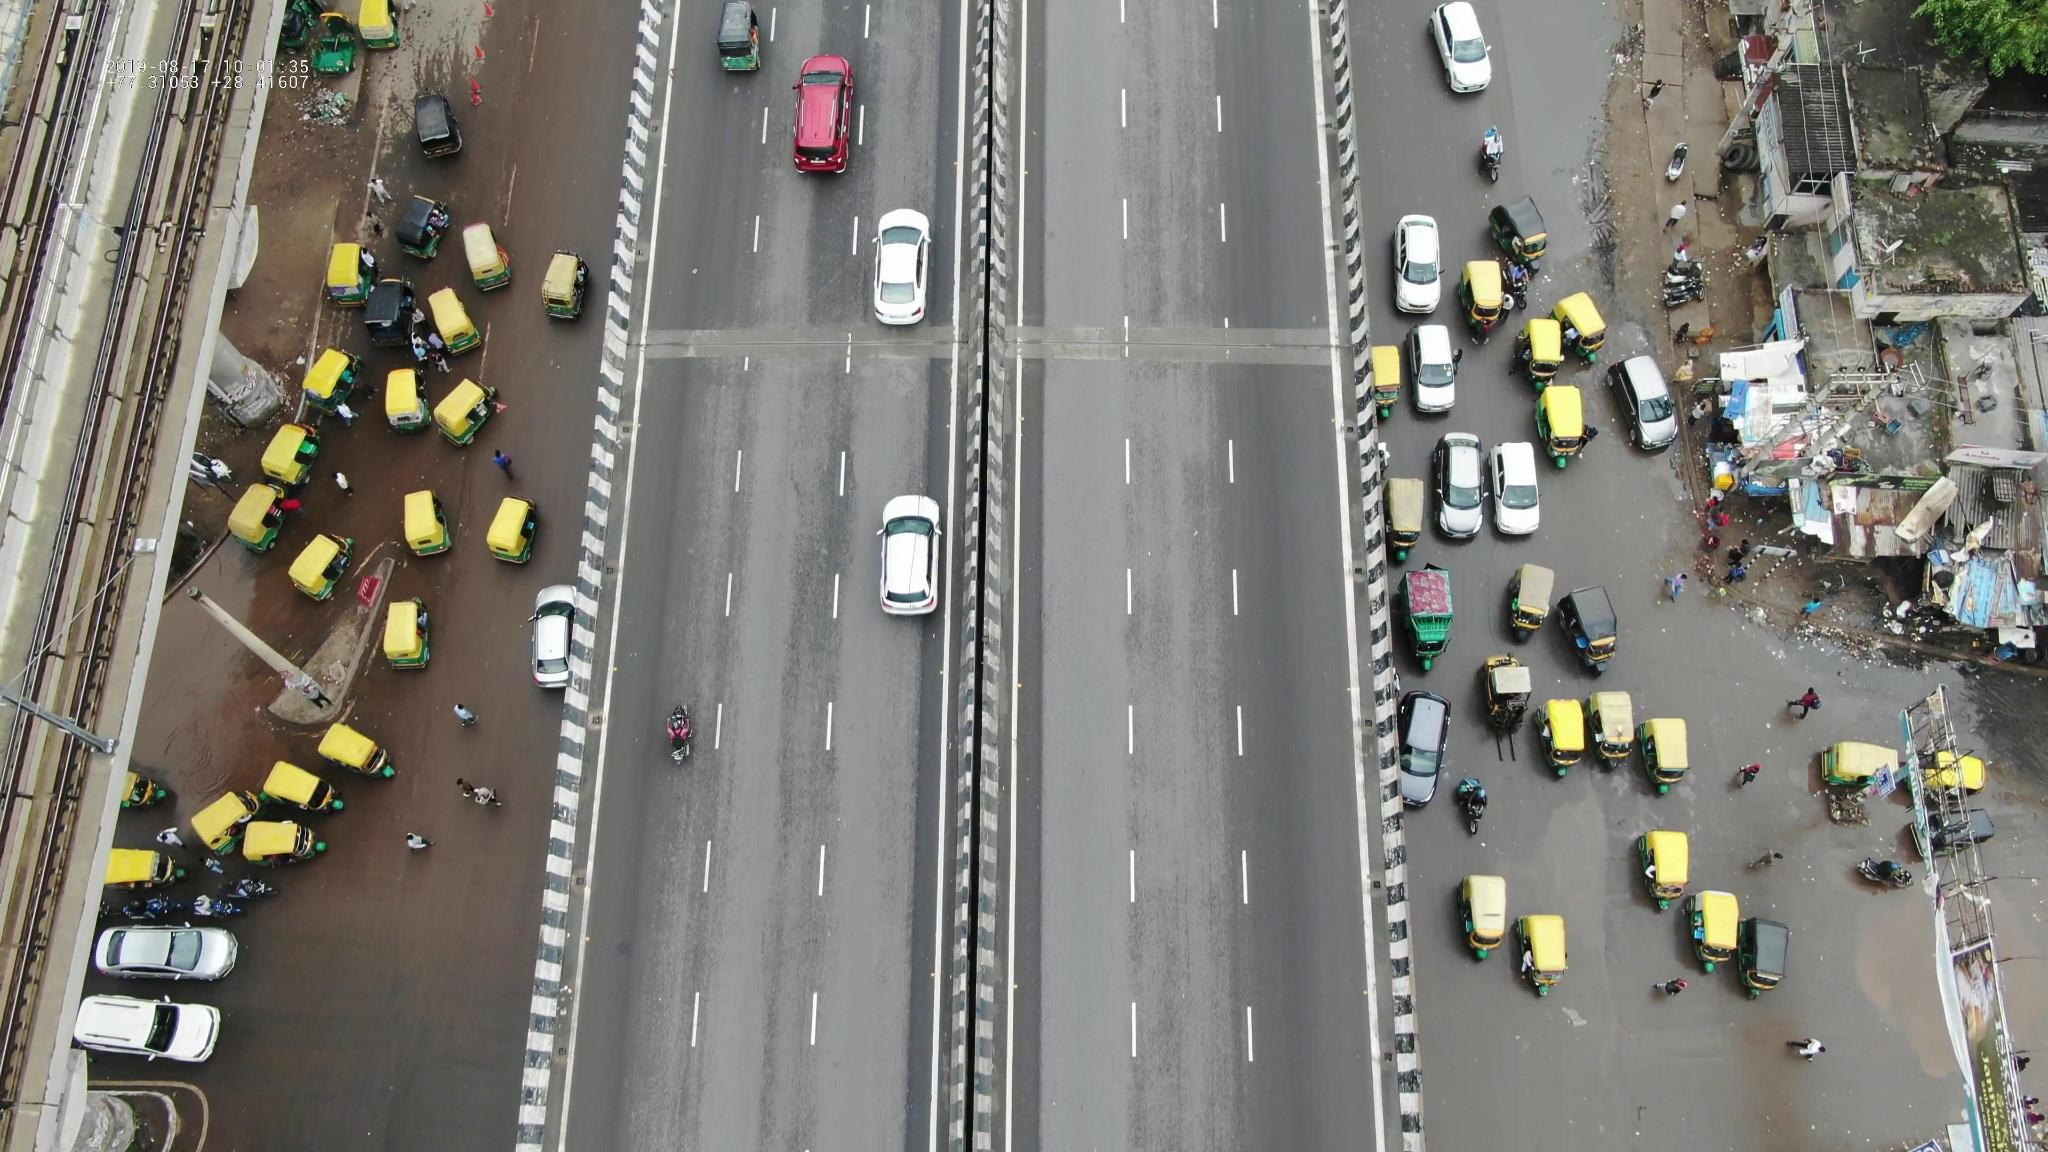Muddy_road: (1575, 70, 1658, 309)
